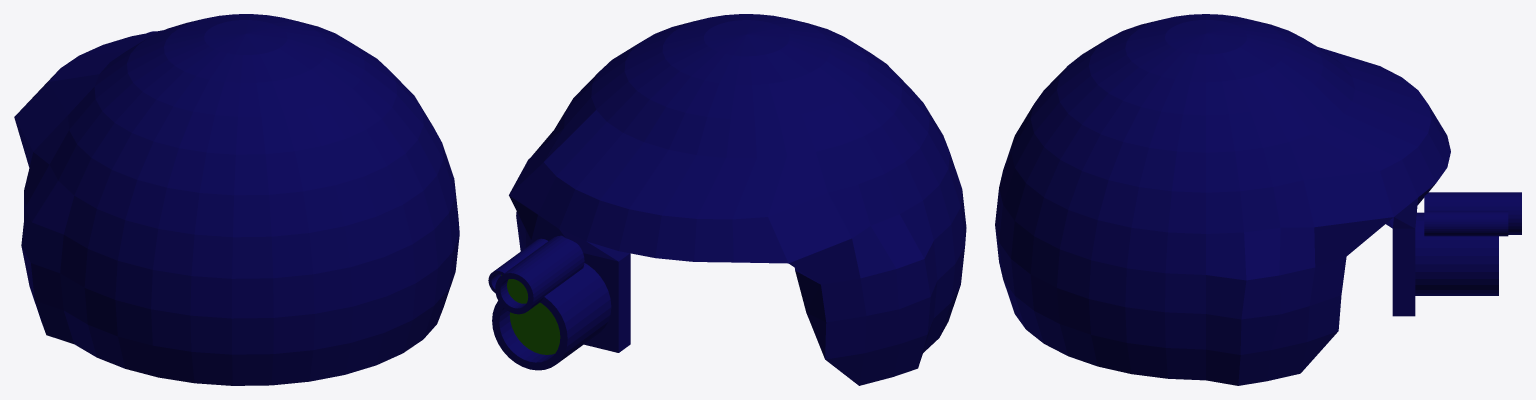
File: helmet_wscope2.gltf
3 renders of one model, left to right at view 1: azimuth 30°, elevation 25°; view 2: azimuth 150°, elevation 25°; view 3: azimuth 270°, elevation 25°, orthographic. The views are drawn at different scales.
Visible parts, largest first — view 1: Cylinder.001; view 2: Cylinder.001; view 3: Cylinder.001.
Part boxes in pixels (x1=…): Cylinder.001: x1=14, y1=14, x2=459, y2=385; Cylinder.001: x1=488, y1=14, x2=966, y2=385; Cylinder.001: x1=995, y1=14, x2=1521, y2=385.
Bounding box in the file's own units: 1.88 × 1.22 × 2.21.
Materials: 2 (1 with a texture image).
